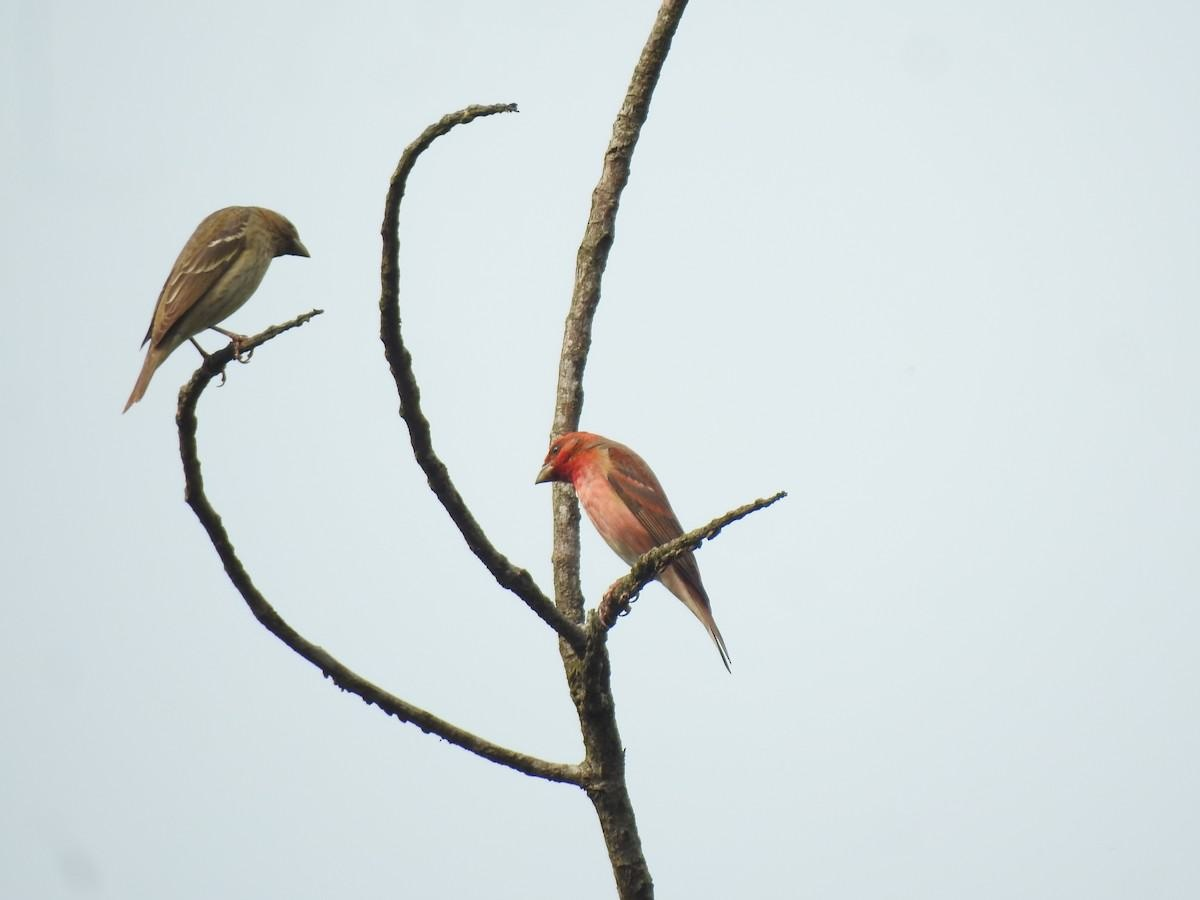rosefinch: (523, 402, 740, 641)
